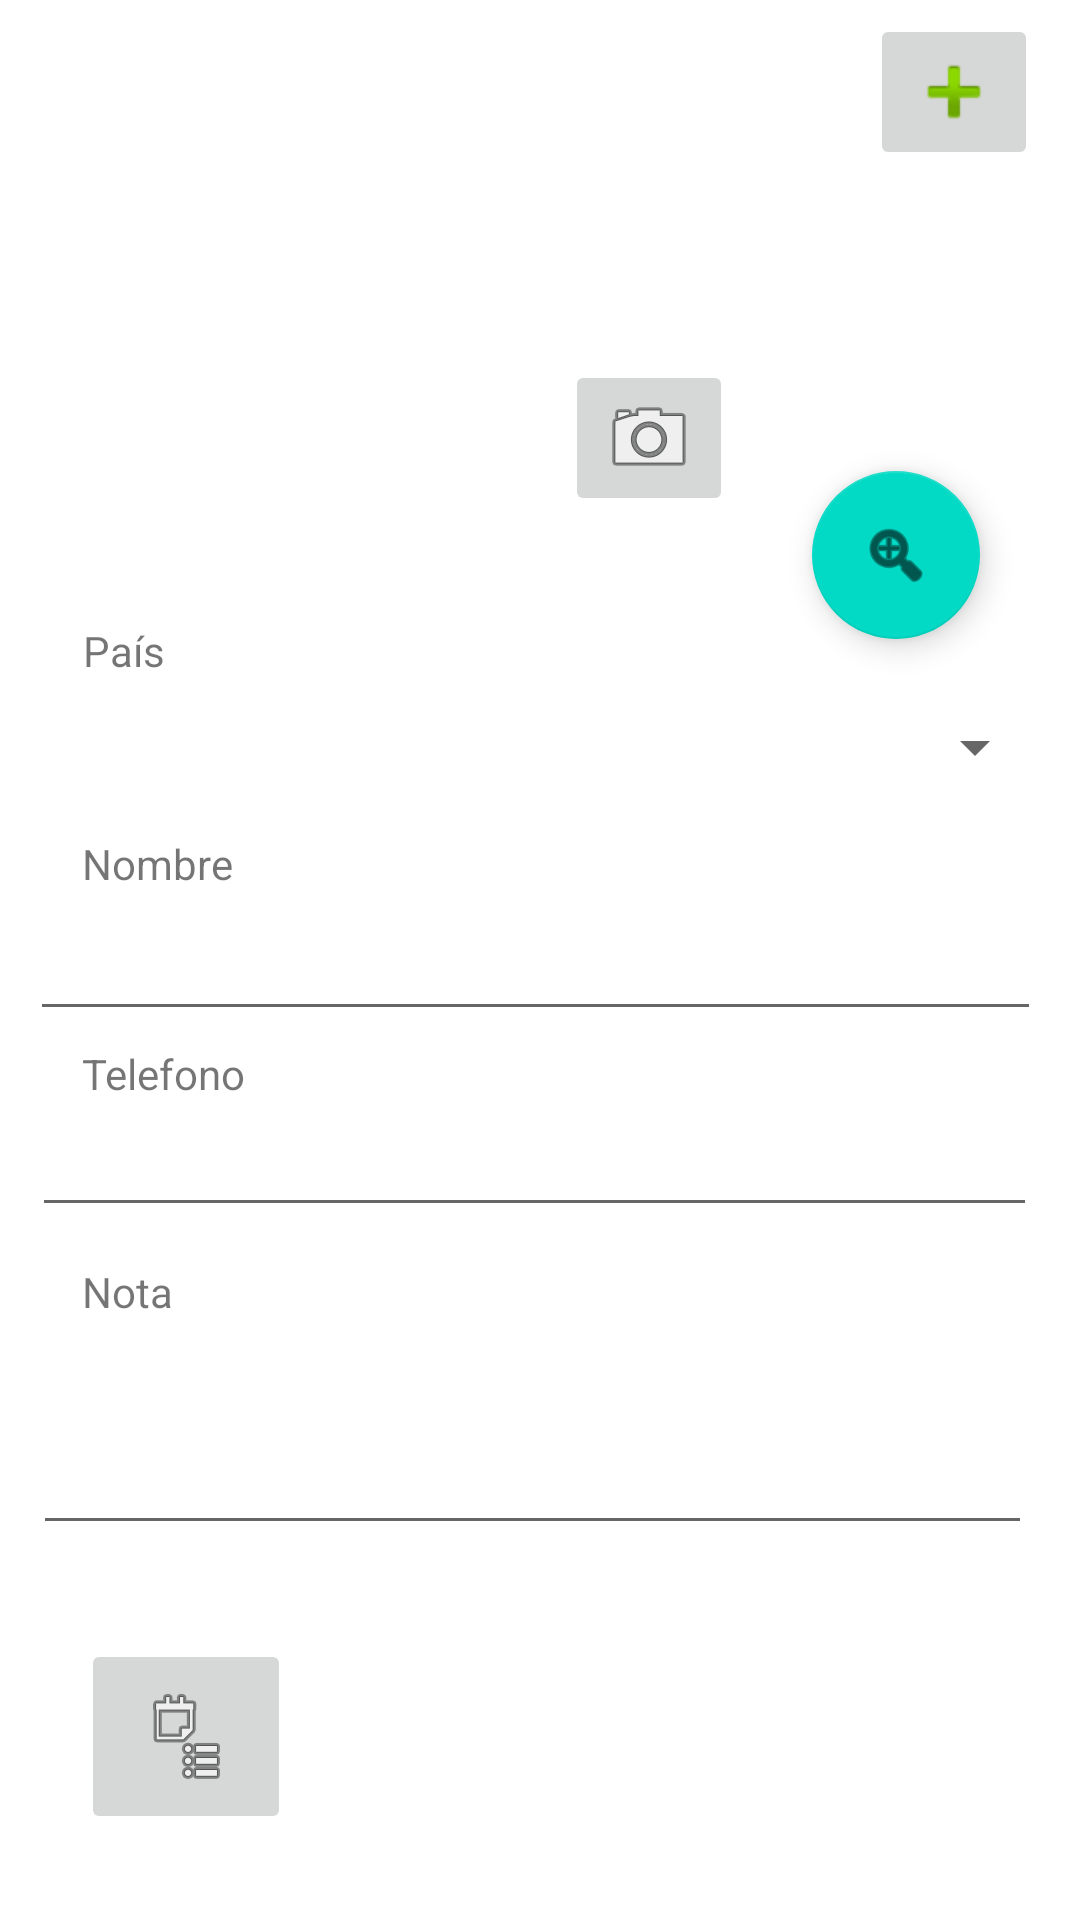

Point at icon controls on the screen. Image size 1080x1920, points as point (x, y).
add: point (954, 92)
agenda: point (186, 1736)
camera: point (649, 438)
zoom: point (896, 555)
